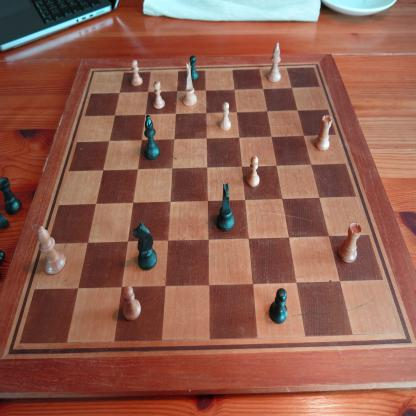black-bishop: (144, 114, 160, 161)
black-knight: (132, 221, 158, 271), (216, 182, 235, 232)
black-pawn: (268, 287, 288, 325), (189, 55, 199, 82)
black-rook: (0, 177, 23, 216)
white-bishop: (37, 225, 66, 276), (266, 41, 282, 83)
white-knight: (183, 63, 197, 107)
white-pawn: (122, 285, 142, 323), (246, 156, 260, 188), (153, 80, 165, 110), (219, 102, 231, 132), (131, 60, 143, 87)
white-rook: (337, 221, 363, 264), (314, 114, 332, 152)
